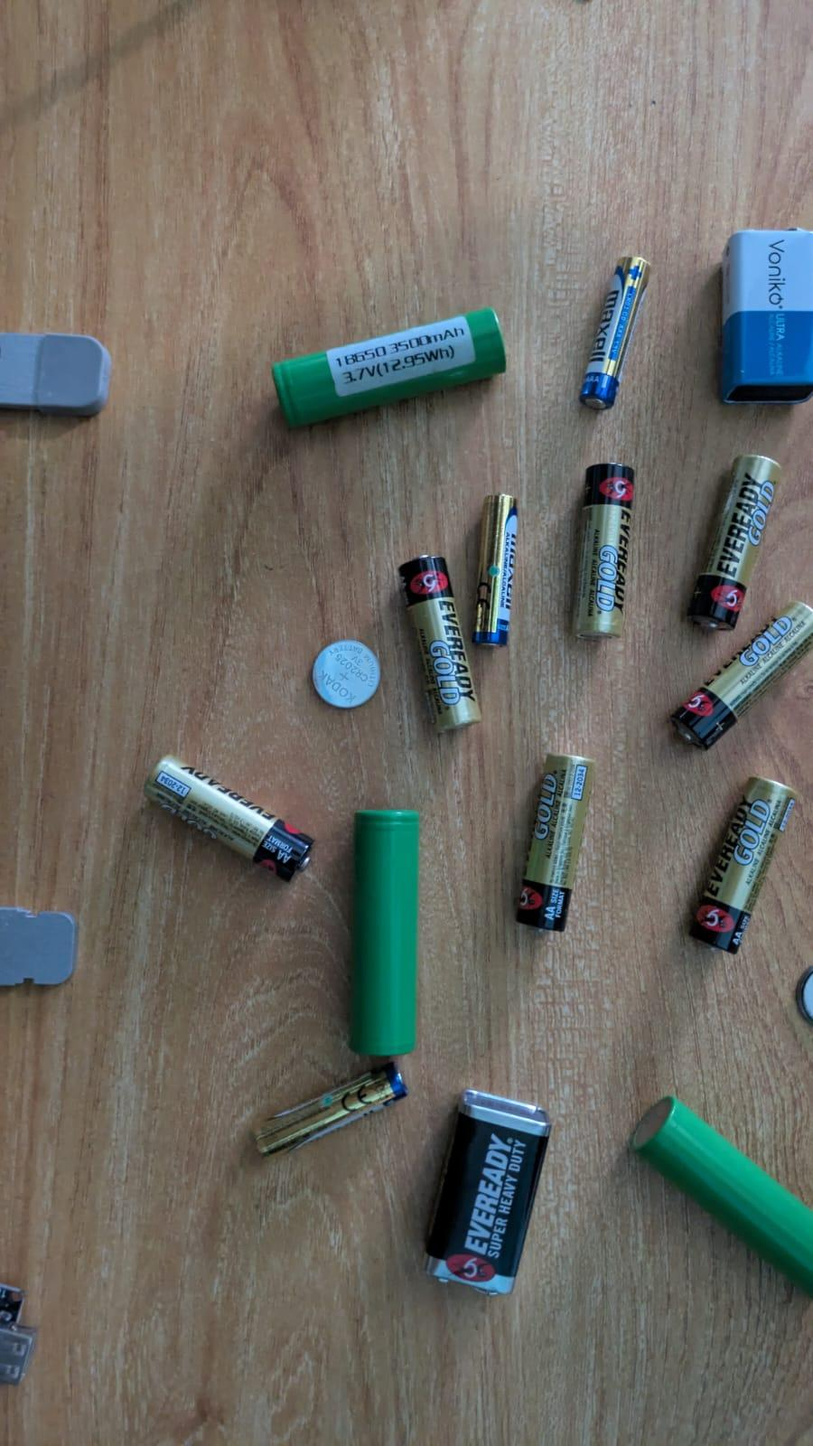9V: (421, 1087, 556, 1294), (718, 226, 811, 402)
AA: (669, 598, 813, 755), (143, 755, 317, 879), (685, 779, 802, 955), (687, 454, 784, 631), (396, 556, 484, 730), (514, 756, 596, 932), (573, 464, 638, 642)
AAA: (251, 1063, 405, 1159), (580, 254, 653, 412), (472, 497, 519, 649)
COIN: (311, 638, 383, 709)
